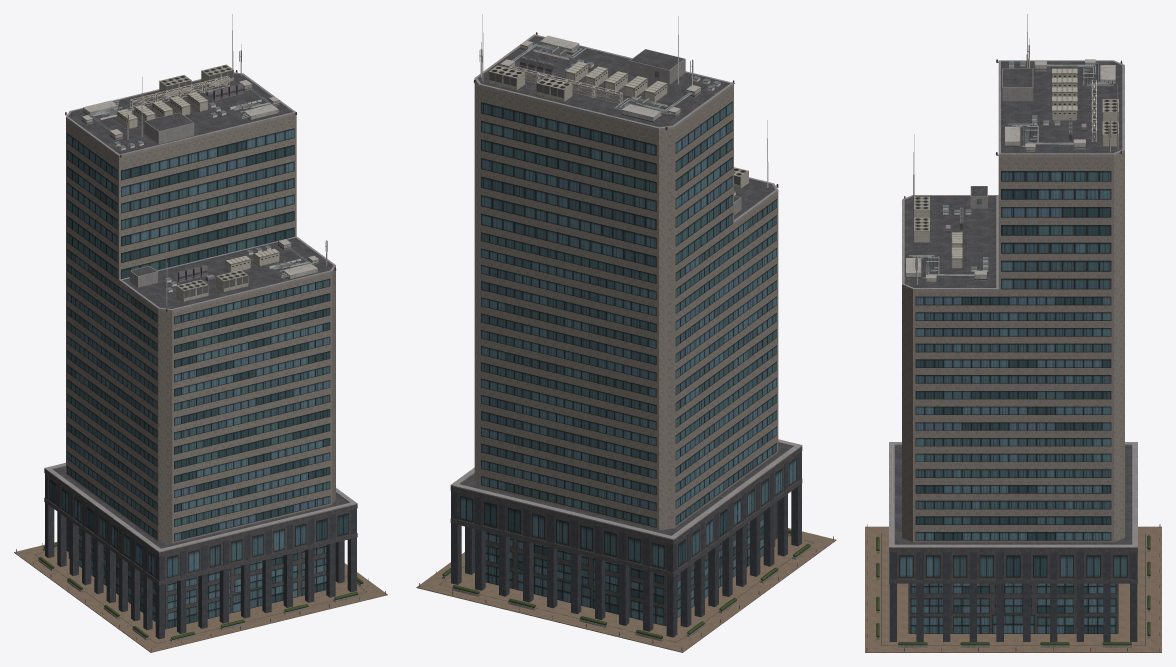
Rendered from jctlowBld50_Db.fbx.
3 renders of one model, left to right at view 1: azimuth 30°, elevation 25°; view 2: azimuth 150°, elevation 25°; view 3: azimuth 270°, elevation 25°, orthographic. The views are drawn at different scales.
Visible parts, largest first — view 1: jctlowBld50_Db; view 2: jctlowBld50_Db; view 3: jctlowBld50_Db.
Part boxes in pixels (left/top/right/bottom): jctlowBld50_Db: left=14, top=14, right=387, bottom=652; jctlowBld50_Db: left=416, top=14, right=836, bottom=652; jctlowBld50_Db: left=865, top=14, right=1161, bottom=652.
Bounding box in the file's own units: 6000 × 12225 × 6000.
12 materials, 12 textured.
